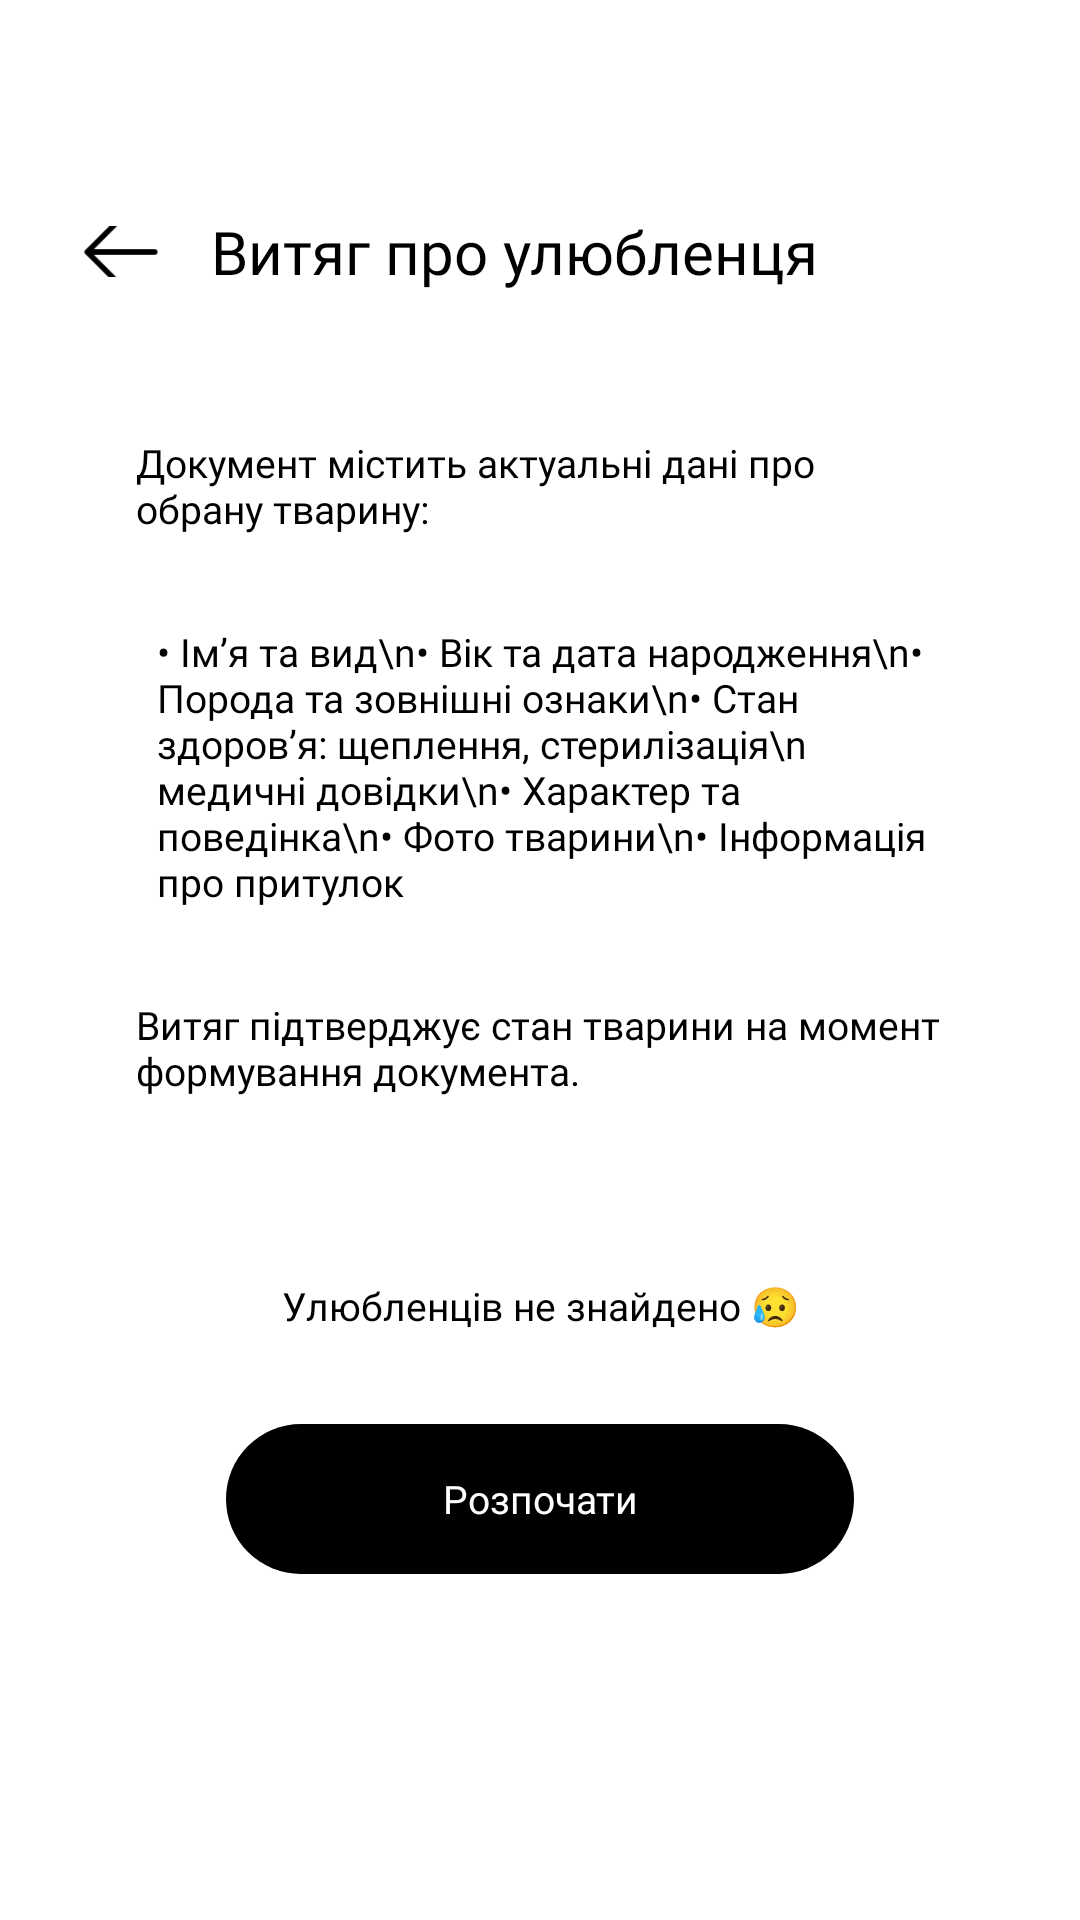

Screen size 1080×1920. Icon name, then its box in pixels as bbox=[x1, y1, x2, y2]:
arrow left: bbox=[84, 226, 158, 277]
